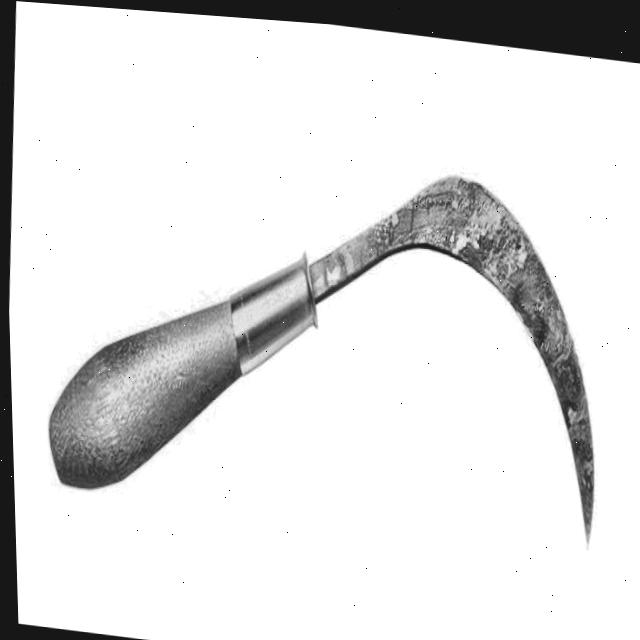celurit: (32, 102, 621, 584)
